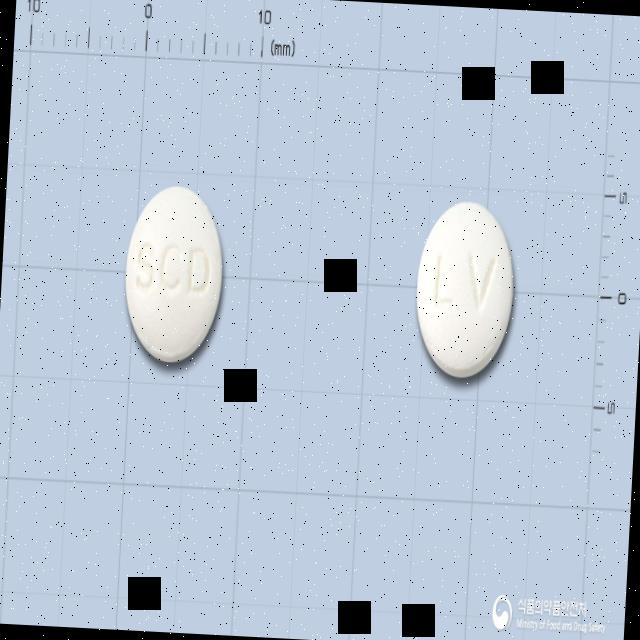Levostar -500mg: (120, 181, 228, 366), (413, 196, 518, 382)
